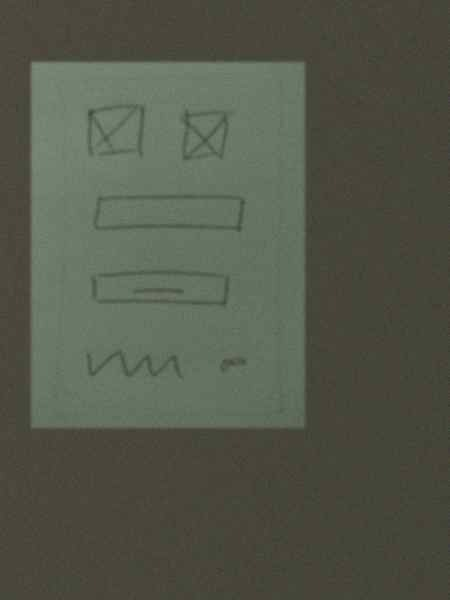button: (85, 266, 234, 313)
image: (82, 101, 149, 163), (176, 107, 239, 165)
switch: (215, 349, 255, 379)
text: (79, 340, 190, 388)
text_input: (88, 191, 248, 239)
